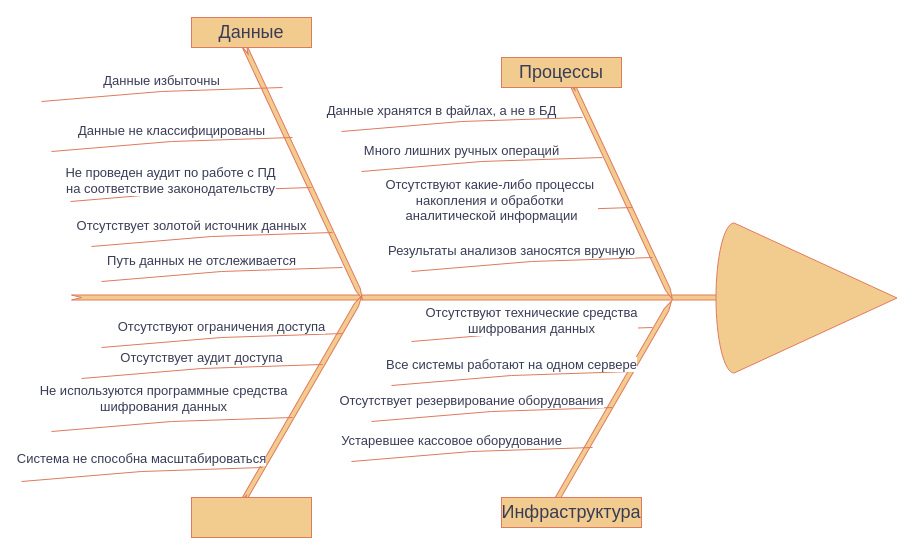
The diagram is 915 pixels wide and 556 high, and some of its shapes have lost their labels. The box of each missing label's shape, as (x1, y1, x2, y2) in pixels:
Данные не используются должным образом и плохо защищены: (715, 222, 897, 373)
Программное обеспечение: (190, 496, 312, 538)
